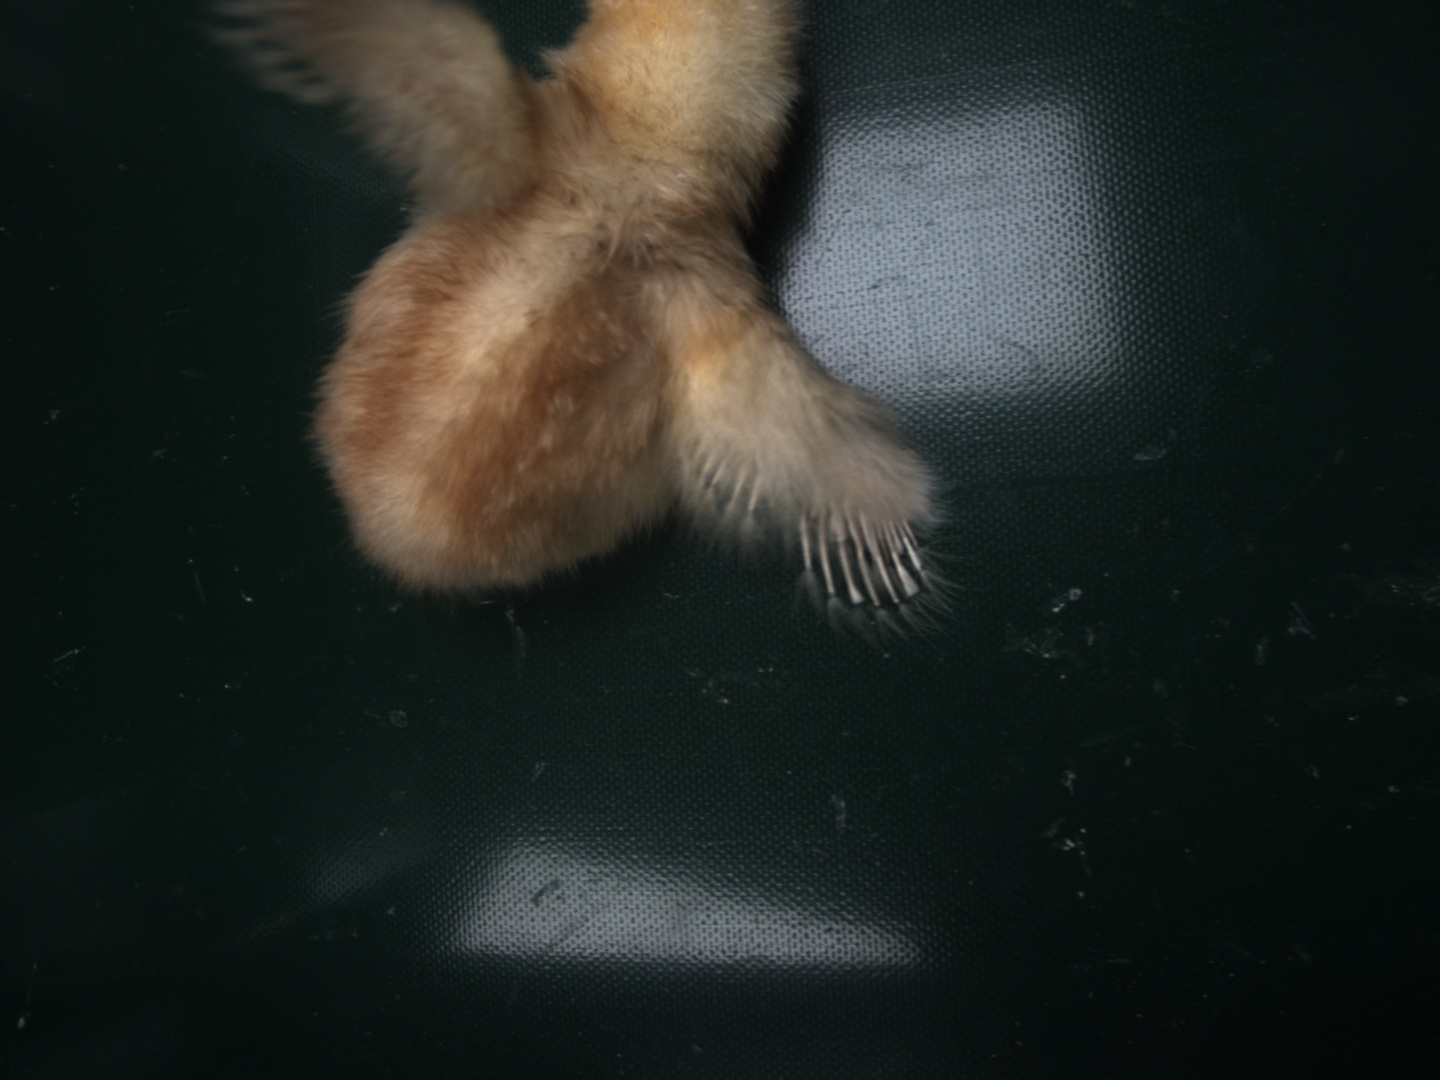female: (793, 504, 924, 604)
